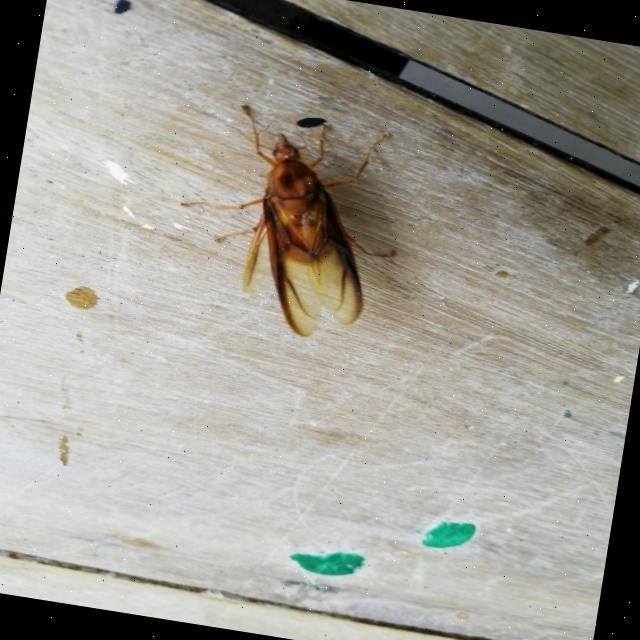Alive-Male-Alate: (162, 96, 418, 350)
